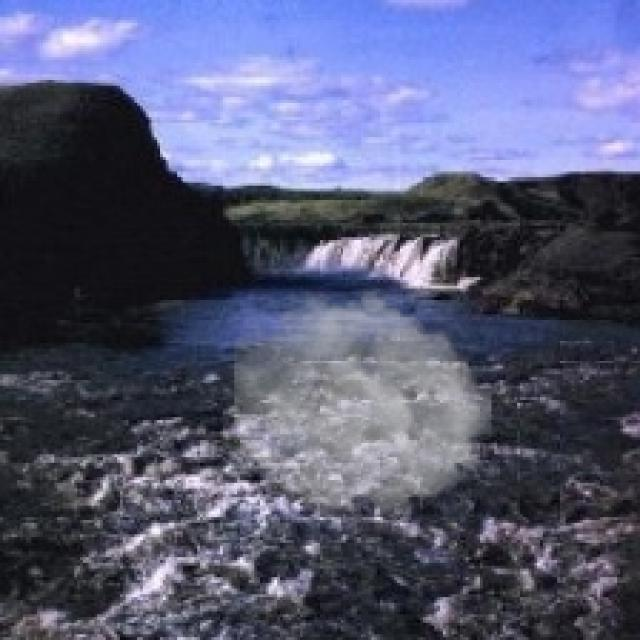smoke: (234, 283, 492, 526)
